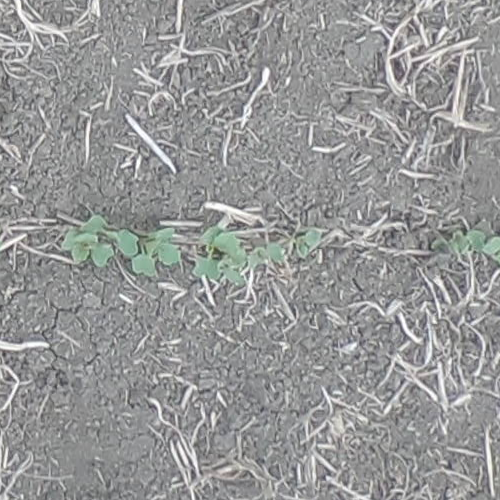clumped: (62, 217, 181, 279), (198, 225, 284, 288), (449, 230, 499, 284), (0, 215, 1, 259)
isolated: (294, 228, 320, 257)
